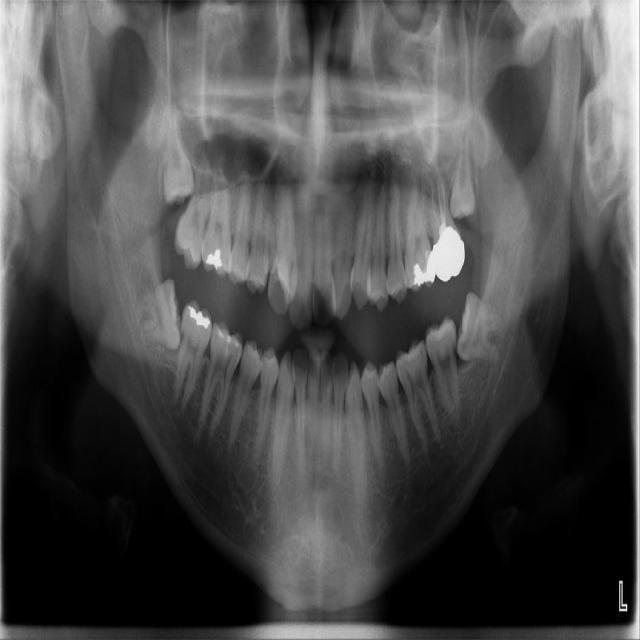3M ESPE Implant: (164, 109, 193, 206)
52: (403, 222, 480, 304), (207, 326, 240, 358), (183, 302, 213, 333), (202, 248, 227, 274)
73: (421, 161, 463, 247)
BioHorizons Implant: (422, 160, 468, 284)
BioLife Implant: (448, 127, 485, 223)
Biomet 3i Implant: (453, 291, 509, 365)
Blue Sky Bio Implant: (424, 315, 461, 428)
Caries: (170, 146, 221, 271)
Implant: (172, 298, 215, 415)
Keystone Dental Implant: (132, 279, 182, 353)
